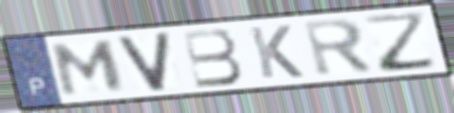B: (179, 26, 246, 89)
K: (246, 23, 307, 80)
M: (51, 38, 127, 98)
R: (300, 17, 378, 80)
V: (114, 30, 173, 94)
Z: (361, 9, 441, 74)
